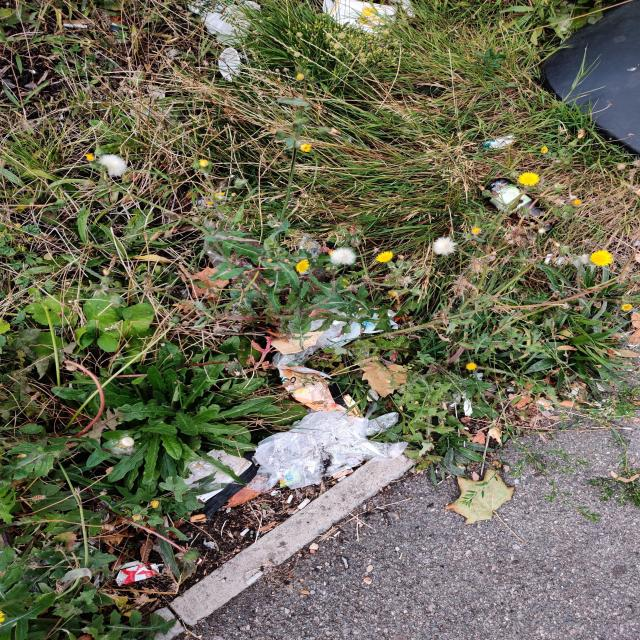litter: (147, 402, 430, 519), (253, 306, 413, 414), (319, 7, 431, 41), (98, 558, 161, 584)
